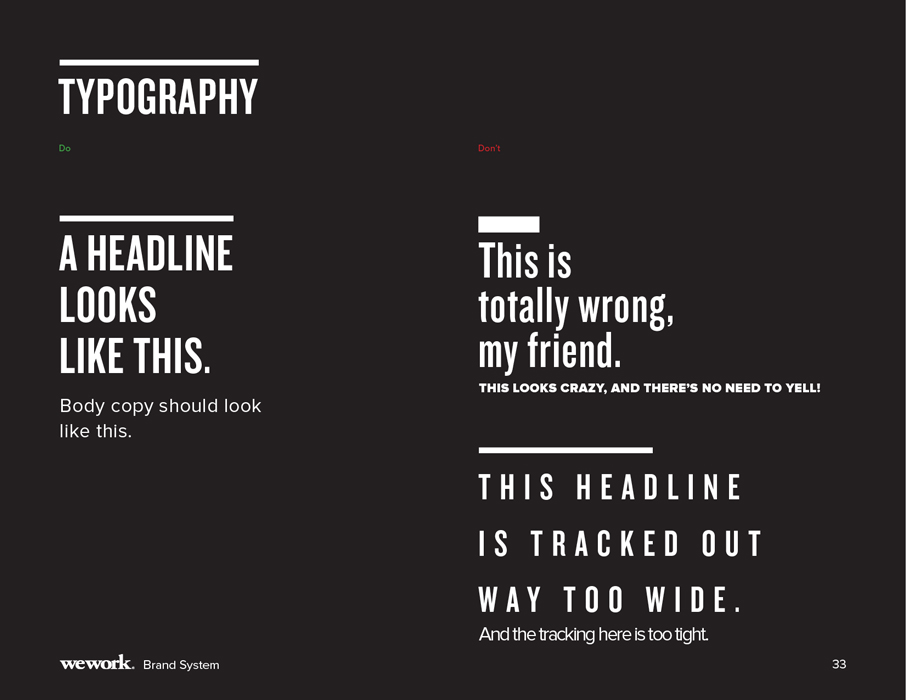wework: (56, 652, 132, 674)
